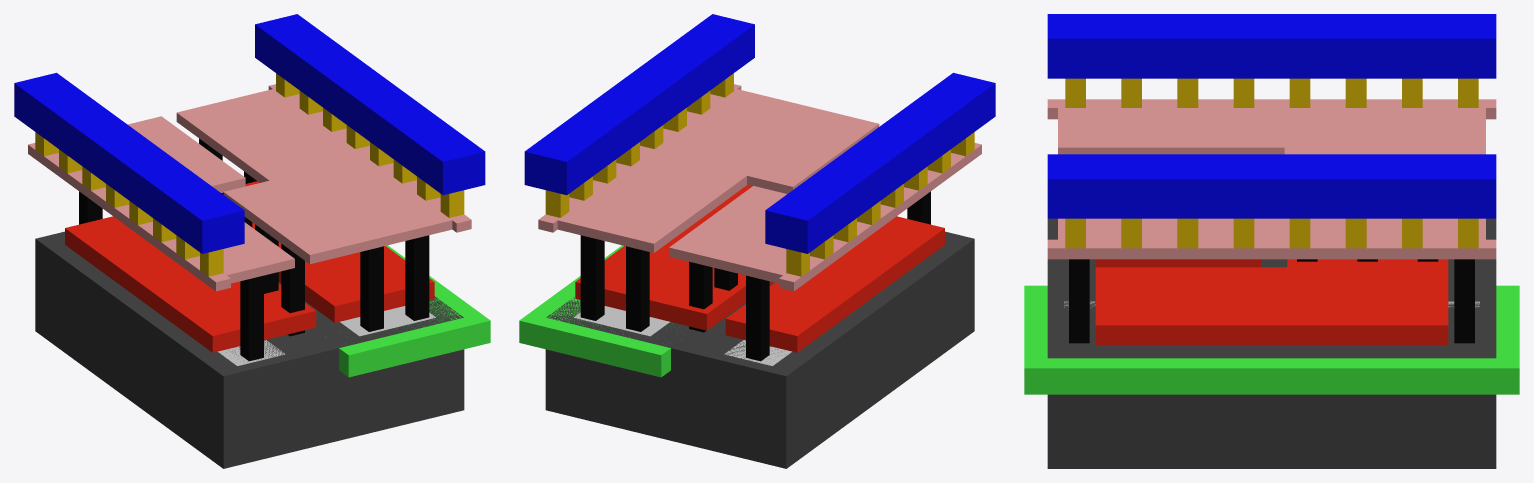
File: sky130_fd_sc_hd__decap_8.obj
3 views of the same model, side by side, from view 1: azimuth 30°, elevation 25°; view 2: azimuth 150°, elevation 25°; view 3: azimuth 270°, elevation 25° (orthographic). The views are drawn at different scales.
Visible parts, largest first — view 1: subs, li, metal1, poly, licon, mcon, nwell, tap, diff; view 2: subs, li, metal1, poly, licon, nwell, mcon, tap, diff; view 3: metal1, subs, li, poly, nwell, mcon, licon.
Part boxes in pixels (x1,y1,x2,y2): subs: [35, 231, 464, 468]; li: [28, 84, 471, 291]; metal1: [14, 14, 485, 253]; poly: [65, 181, 434, 352]; licon: [79, 138, 429, 361]; mcon: [35, 73, 464, 276]; nwell: [339, 245, 490, 377]; tap: [340, 306, 435, 336]; diff: [218, 340, 284, 365]; subs: [545, 231, 974, 468]; li: [538, 84, 981, 291]; metal1: [524, 14, 995, 253]; poly: [575, 185, 944, 352]; licon: [580, 191, 930, 361]; nwell: [519, 245, 670, 377]; mcon: [545, 73, 974, 276]; tap: [574, 306, 669, 336]; diff: [724, 340, 791, 365]; metal1: [1047, 14, 1496, 218]; subs: [1047, 218, 1496, 468]; li: [1047, 99, 1496, 259]; poly: [1095, 259, 1448, 345]; nwell: [1024, 285, 1519, 394]; mcon: [1065, 78, 1478, 248]; licon: [1069, 259, 1474, 343].
Bounding box in the file's own units: 3.2 × 2.74 × 4.06.
